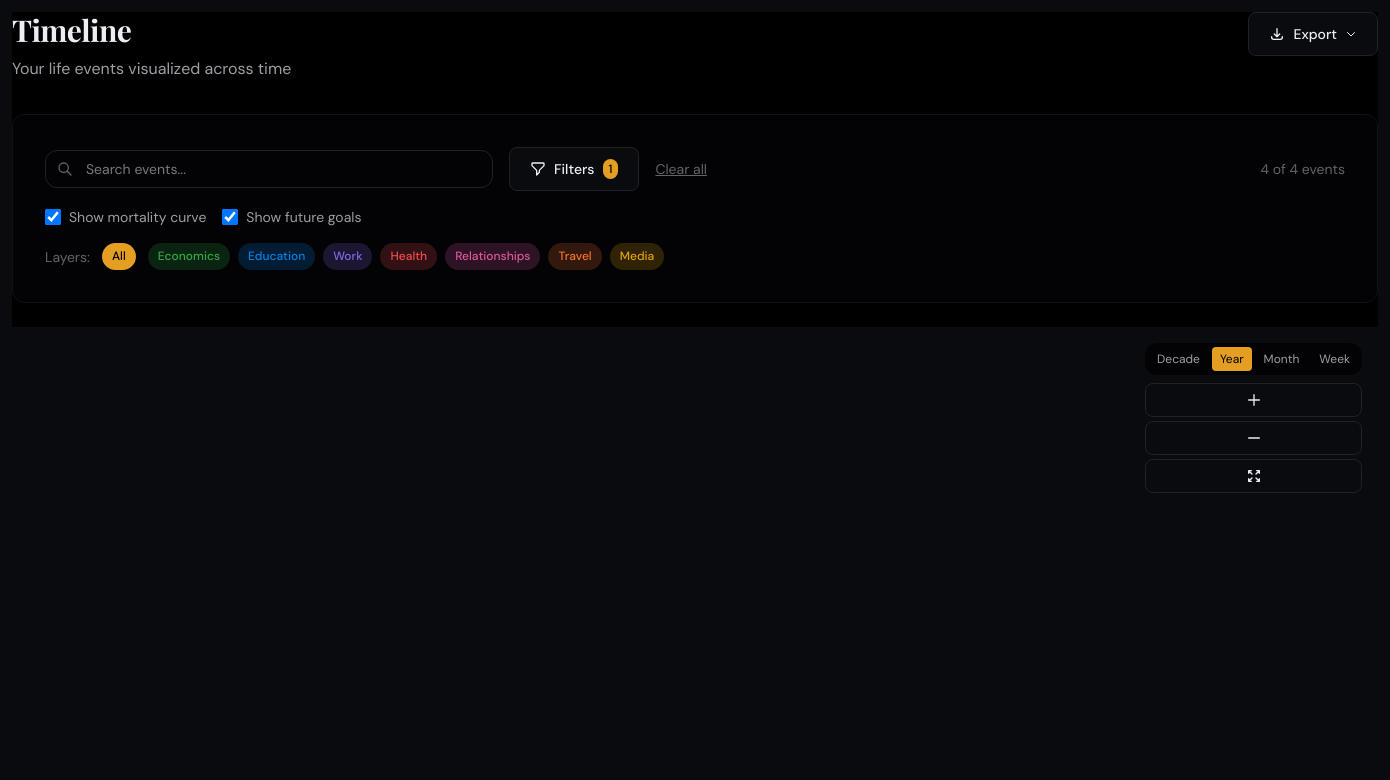
Test case: TimelineView › Layer Filtering › toggles all layers when All button clicked
expect the text "4 of 4 events" is shown: met, box left=1260, top=159, right=1345, bottom=179
Note: Click to hide all layers
Click the button "All" at (119, 257), box left=102, top=243, right=136, bottom=270
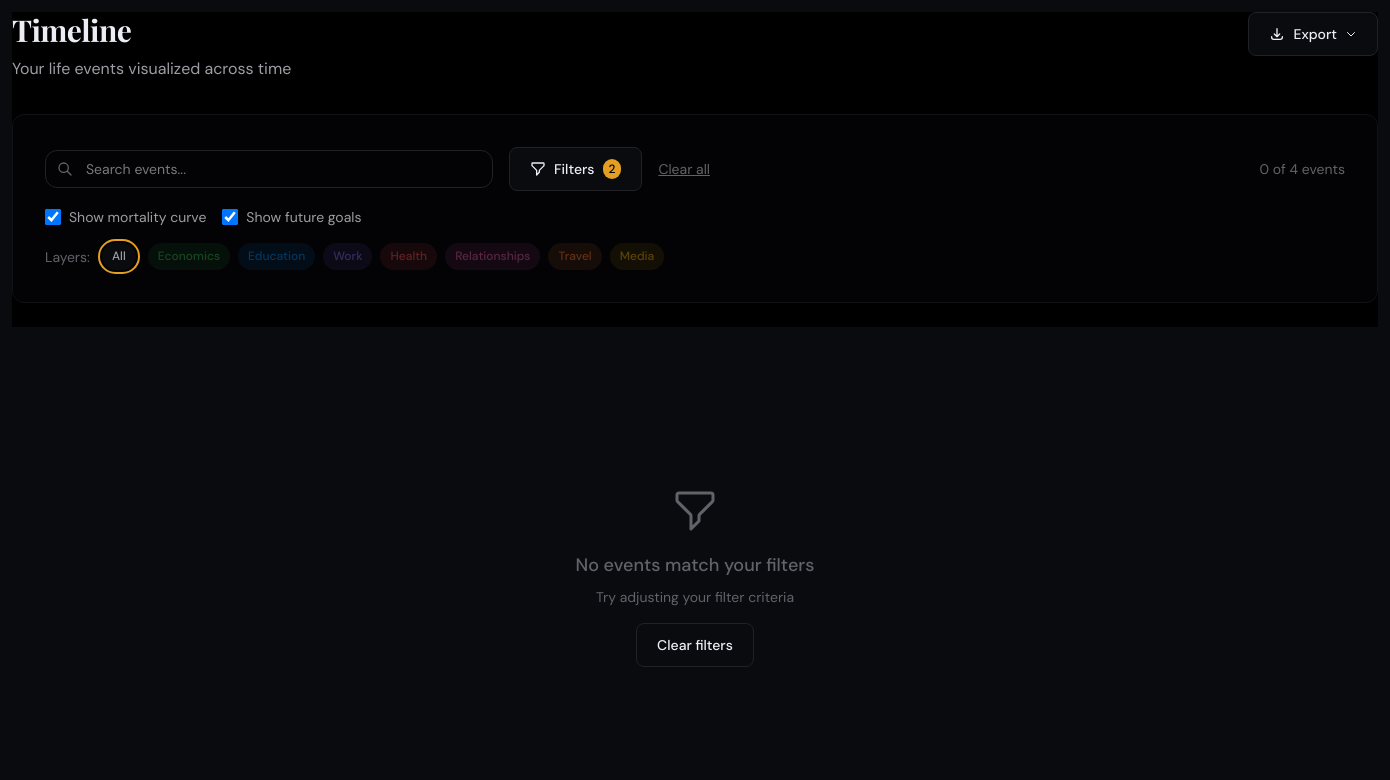
expect the text "0 of 4 events" is shown: met, box left=1260, top=159, right=1345, bottom=179
Note: Click again to show all layers
Click the button "All" at (119, 257), box left=102, top=243, right=136, bottom=270
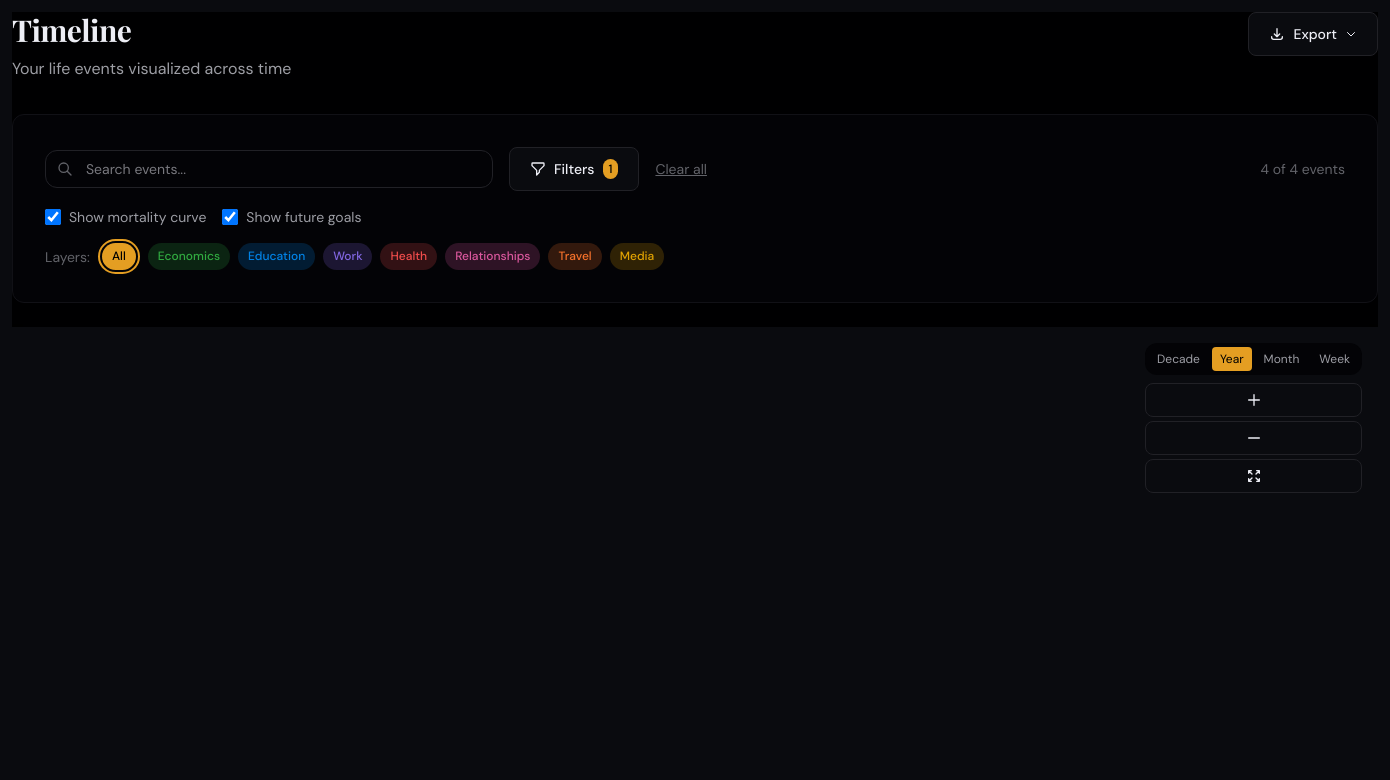
expect the text "4 of 4 events" is shown: met, box left=1260, top=159, right=1345, bottom=179
